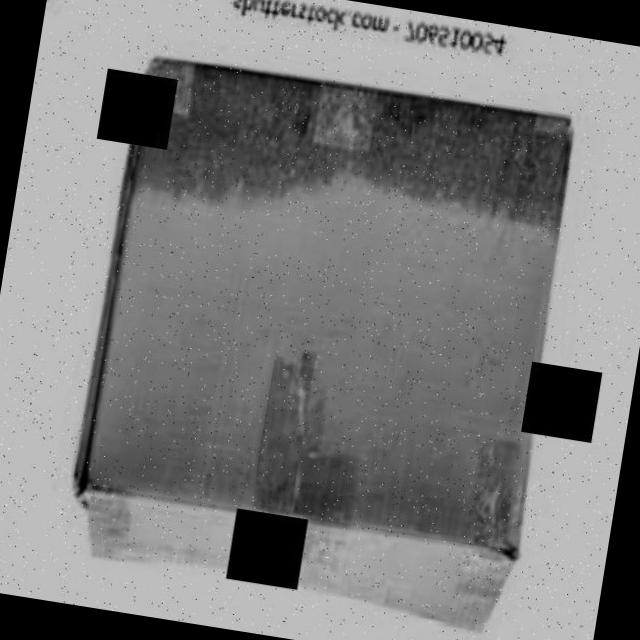box: (50, 34, 596, 640)
